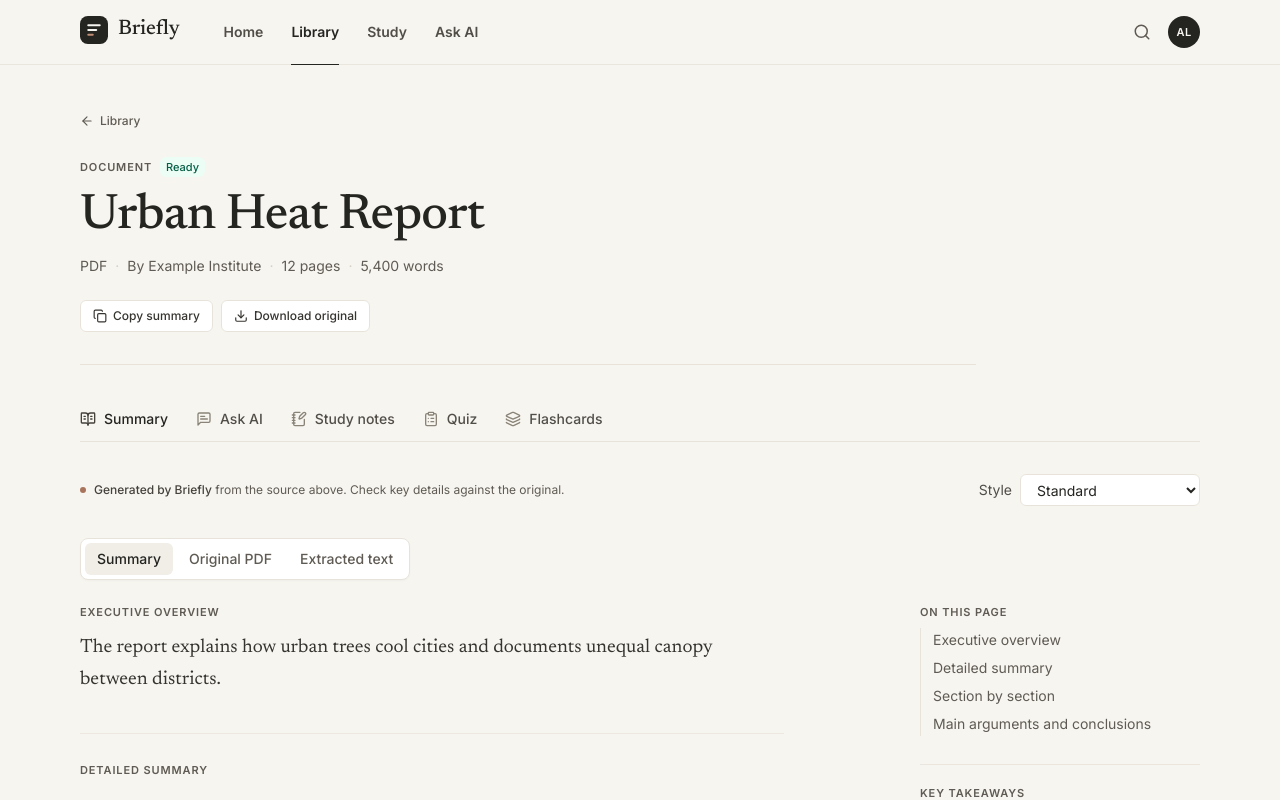
Test case: Document summary page › the extracted text tab shows pages, tables and OCR badges as plain text
Click the tab "Extracted text": click(347, 559) [288,543,405,575]
(page scrolled)
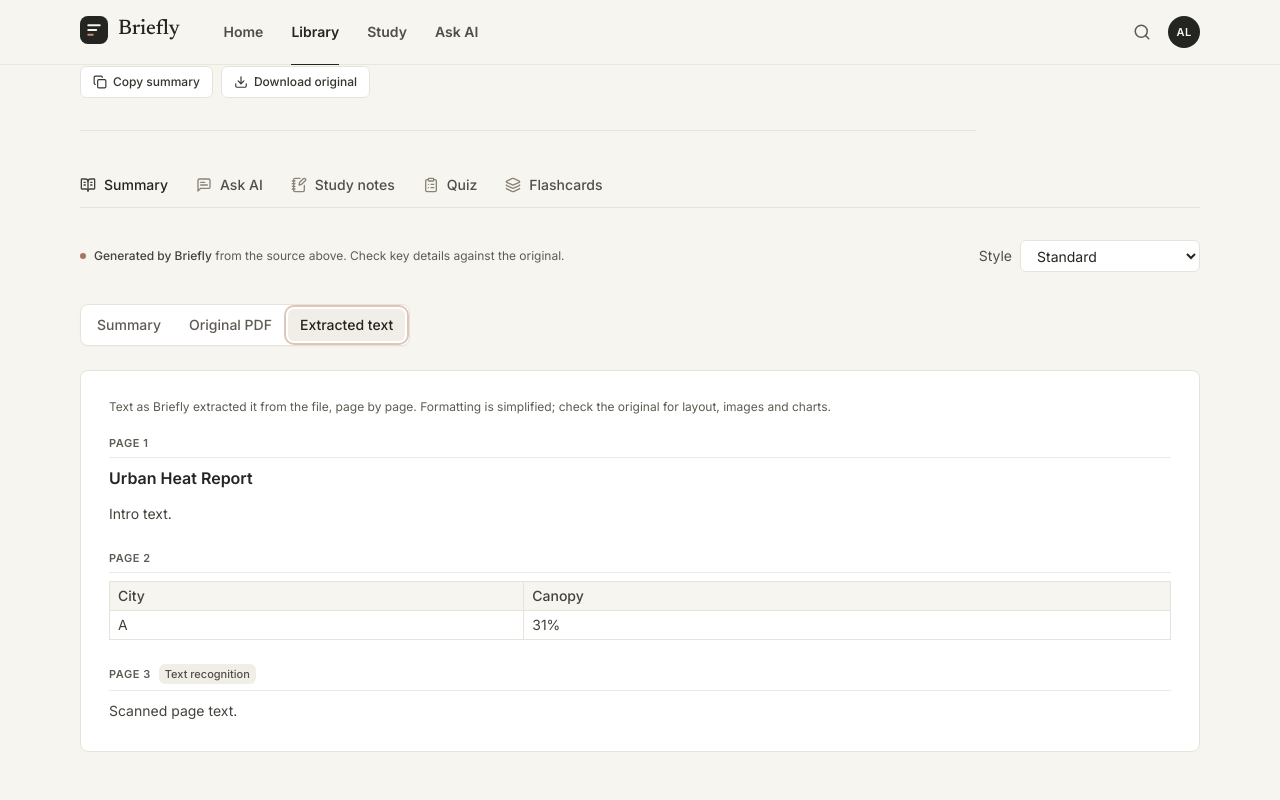
Expected: the text "Text recognition" is shown, [159,664,256,684]
Now the table is shown, box [109,581,1171,640]
